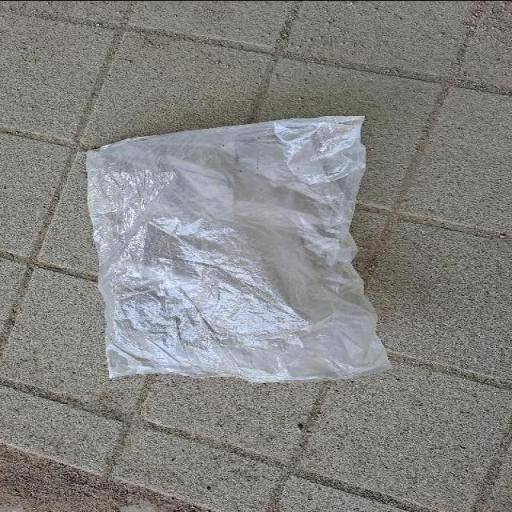plastic-bag: (81, 110, 396, 386)
